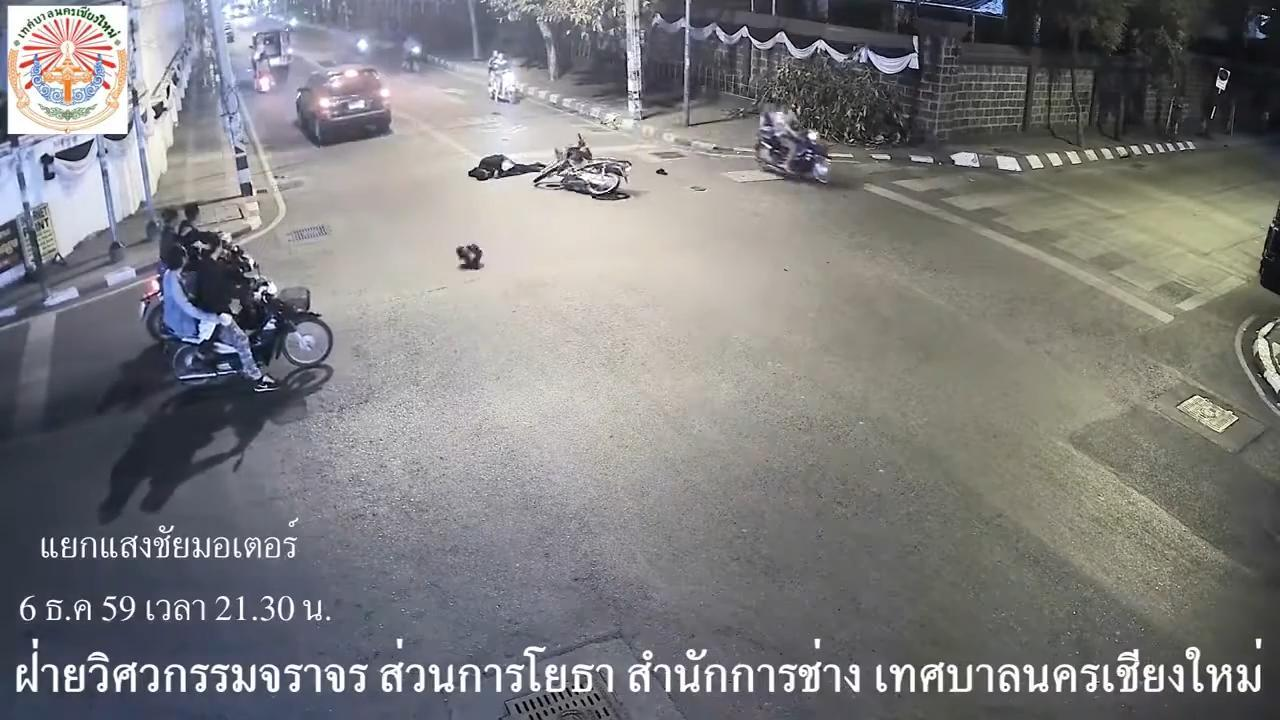accident: (468, 150, 544, 185)
